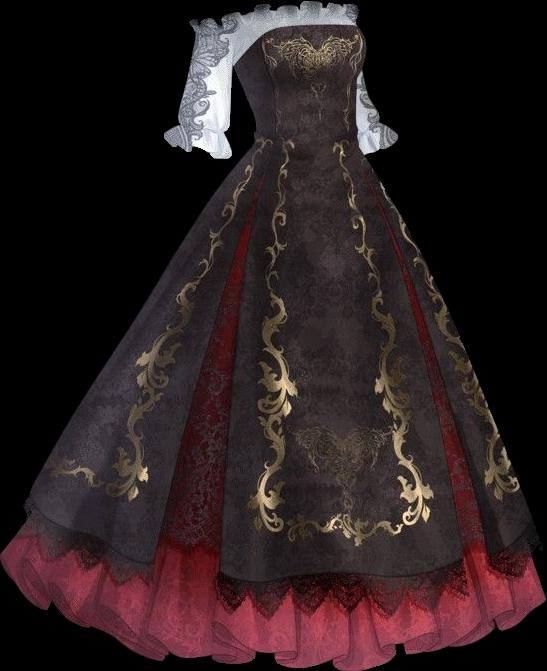Bodice: (231, 1, 366, 156)
Hemline: (22, 175, 541, 620), (4, 558, 546, 670)
Neckline: (234, 18, 358, 70), (233, 0, 350, 18)
Skirt: (0, 148, 545, 670)
Sleeve: (164, 13, 238, 158)
Sleeveline: (226, 15, 244, 69), (179, 120, 227, 138)
